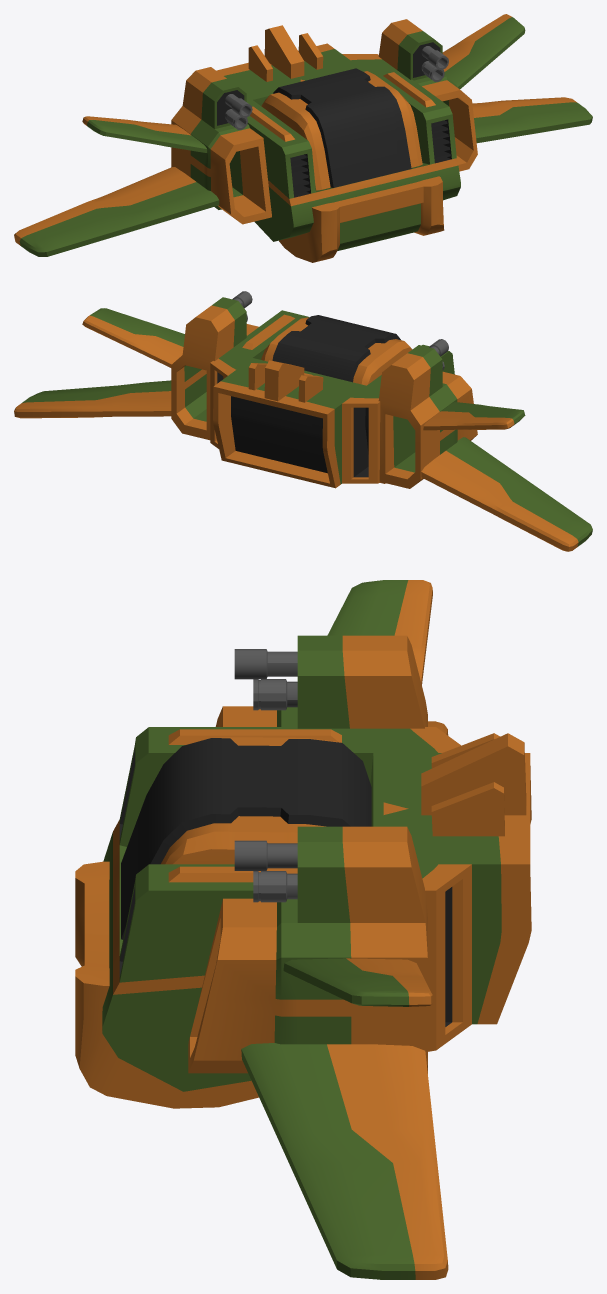
The model's file is concord_shuttle.repacked.glb.
The picture shows the model from 3 angles, top to bottom: view 1: azimuth 30°, elevation 25°; view 2: azimuth 150°, elevation 25°; view 3: azimuth 270°, elevation 25°; orthographic projection. The views are drawn at different scales.
Visible parts, largest first — view 1: Spaceship_FinnTheFrog; view 2: Spaceship_FinnTheFrog; view 3: Spaceship_FinnTheFrog.
Part boxes in pixels (<box>): Spaceship_FinnTheFrog: <box>14,14,592,262</box>; Spaceship_FinnTheFrog: <box>14,291,592,551</box>; Spaceship_FinnTheFrog: <box>75,580,531,1279</box>.
Size of the model in its own units: 11.62 by 3.06 by 4.11.
Materials: 1 (1 with a texture image).
